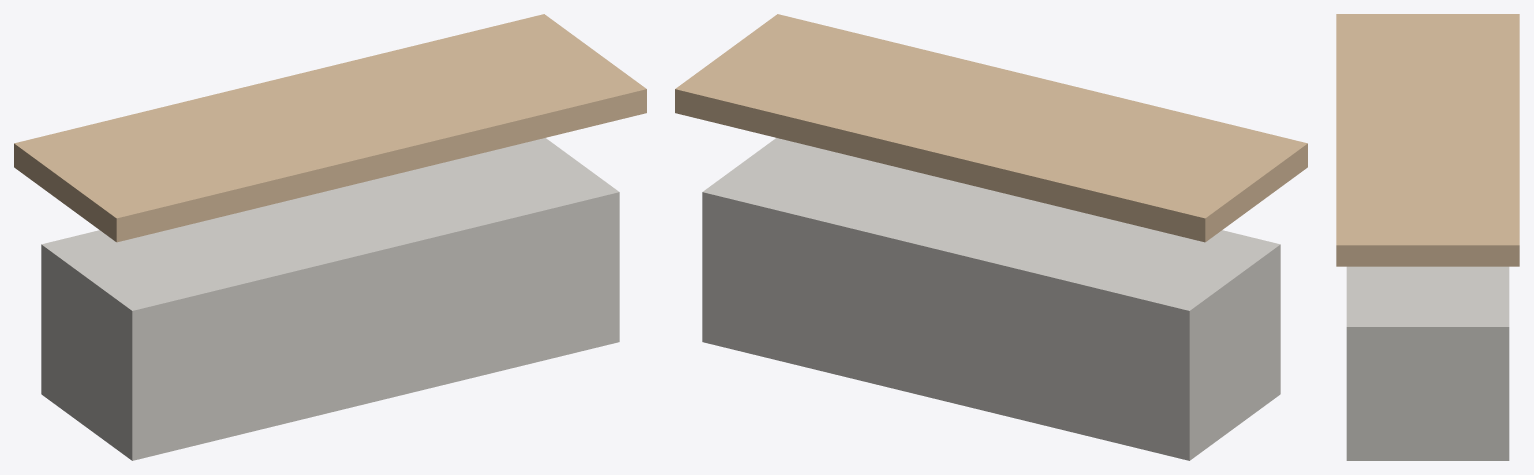
Rendered from counter.glb.
3 views of the same model, side by side, from view 1: azimuth 30°, elevation 25°; view 2: azimuth 150°, elevation 25°; view 3: azimuth 270°, elevation 25° (orthographic). The views are drawn at different scales.
Parts seen in each view (by area): view 1: Counter; view 2: Counter; view 3: Counter.
Boxes of the visible parts, x1,y1,x2,y2 form: Counter: [14, 14, 646, 460]; Counter: [675, 14, 1307, 460]; Counter: [1336, 14, 1519, 460].
Size of the model in its own units: 1.85 by 0.84 by 0.62.
